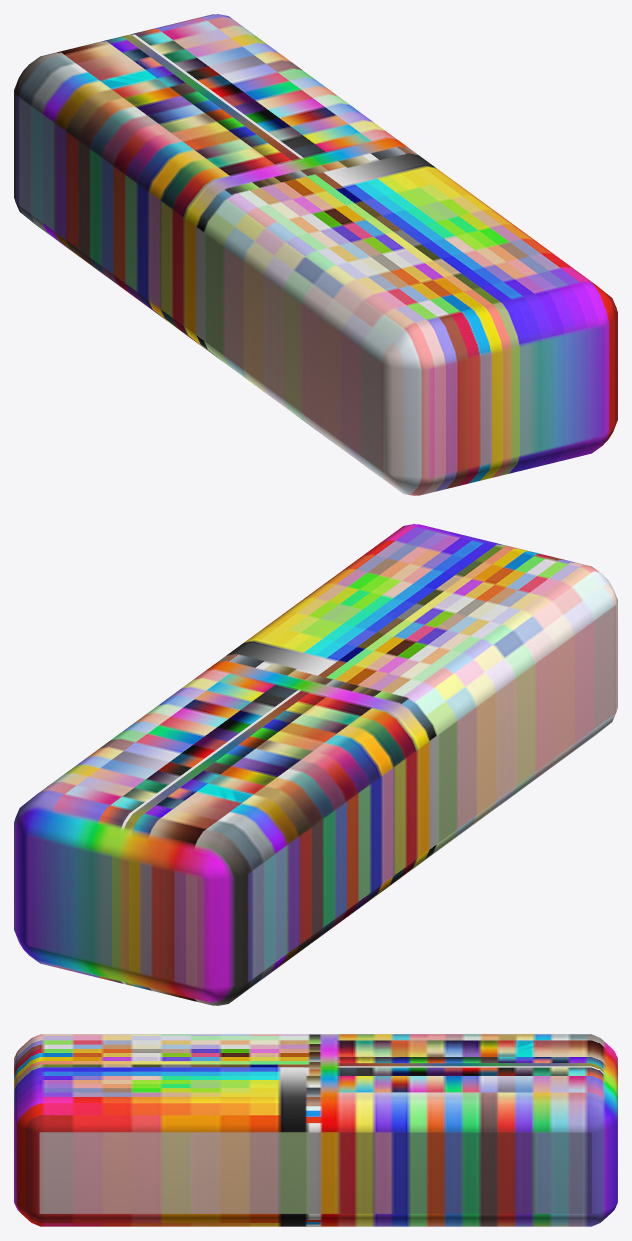
The model's file is TightWay.fbx.
3 views of the same model, one above another, from view 1: azimuth 30°, elevation 25°; view 2: azimuth 150°, elevation 25°; view 3: azimuth 270°, elevation 25° (orthographic). The views are drawn at different scales.
Visible parts, largest first — view 1: Circle.003; view 2: Circle.003; view 3: Circle.003.
Part boxes in pixels (<box>): Circle.003: <box>14,14,617,495</box>; Circle.003: <box>14,524,617,1005</box>; Circle.003: <box>14,1034,617,1226</box>.
Size of the model in its own units: 1 by 0.702 by 3.
